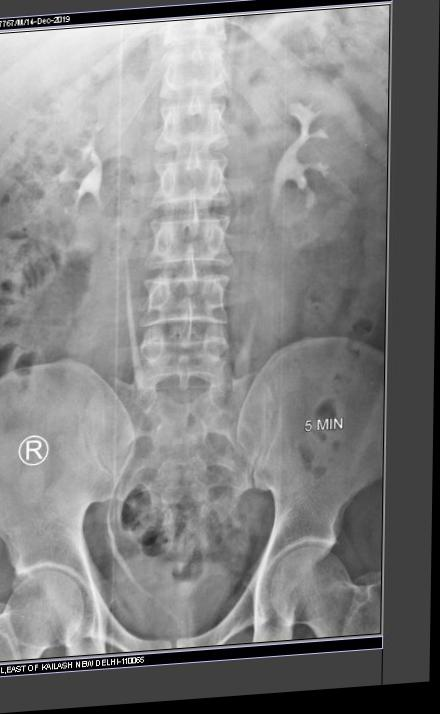bladder: (125, 581, 278, 692)
left kidney: (288, 31, 428, 260)
vertebrae: (181, 73, 271, 141)
